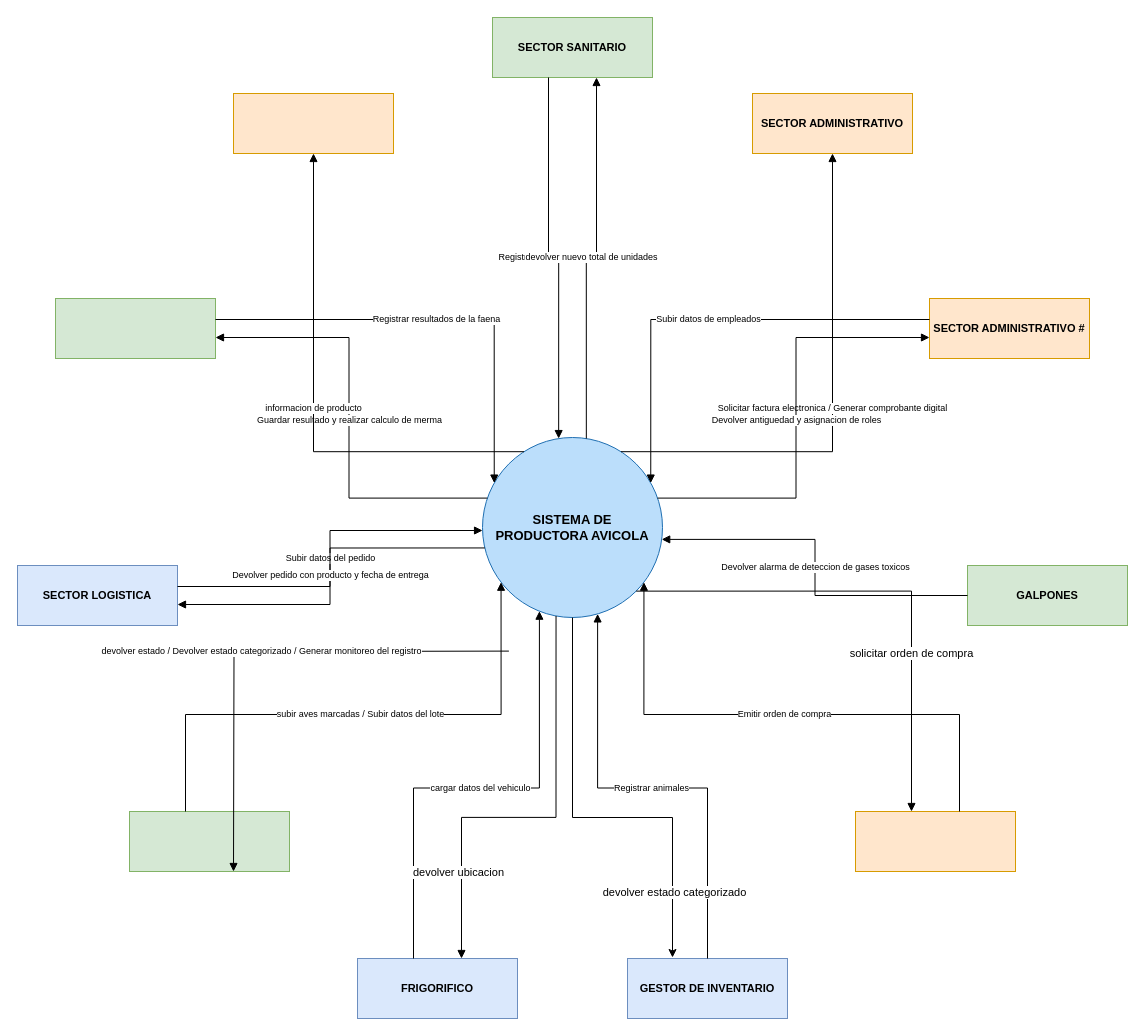
Some shapes in this 1145 by 1036 pixel diagram are drawn without their labels. Here are the shapes that lost their labels. From the top down, the centre of each, then its label:
At (313,123): "SECTOR DE EMPAQUE".
At (135,328): "OPERARIO DE PLANTA".
At (209,841): "SECTOR DE CRIANZA".
At (935,841): "SECTOR ALIMENTICIO".
